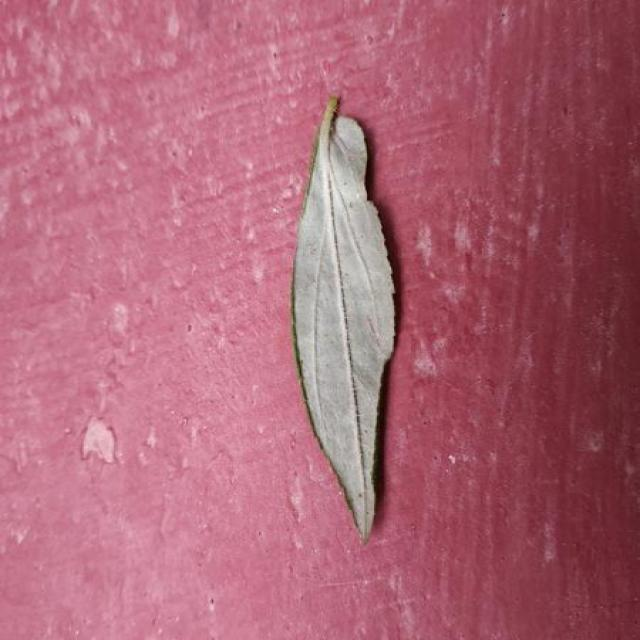Astma_weed: (293, 96, 395, 541)
